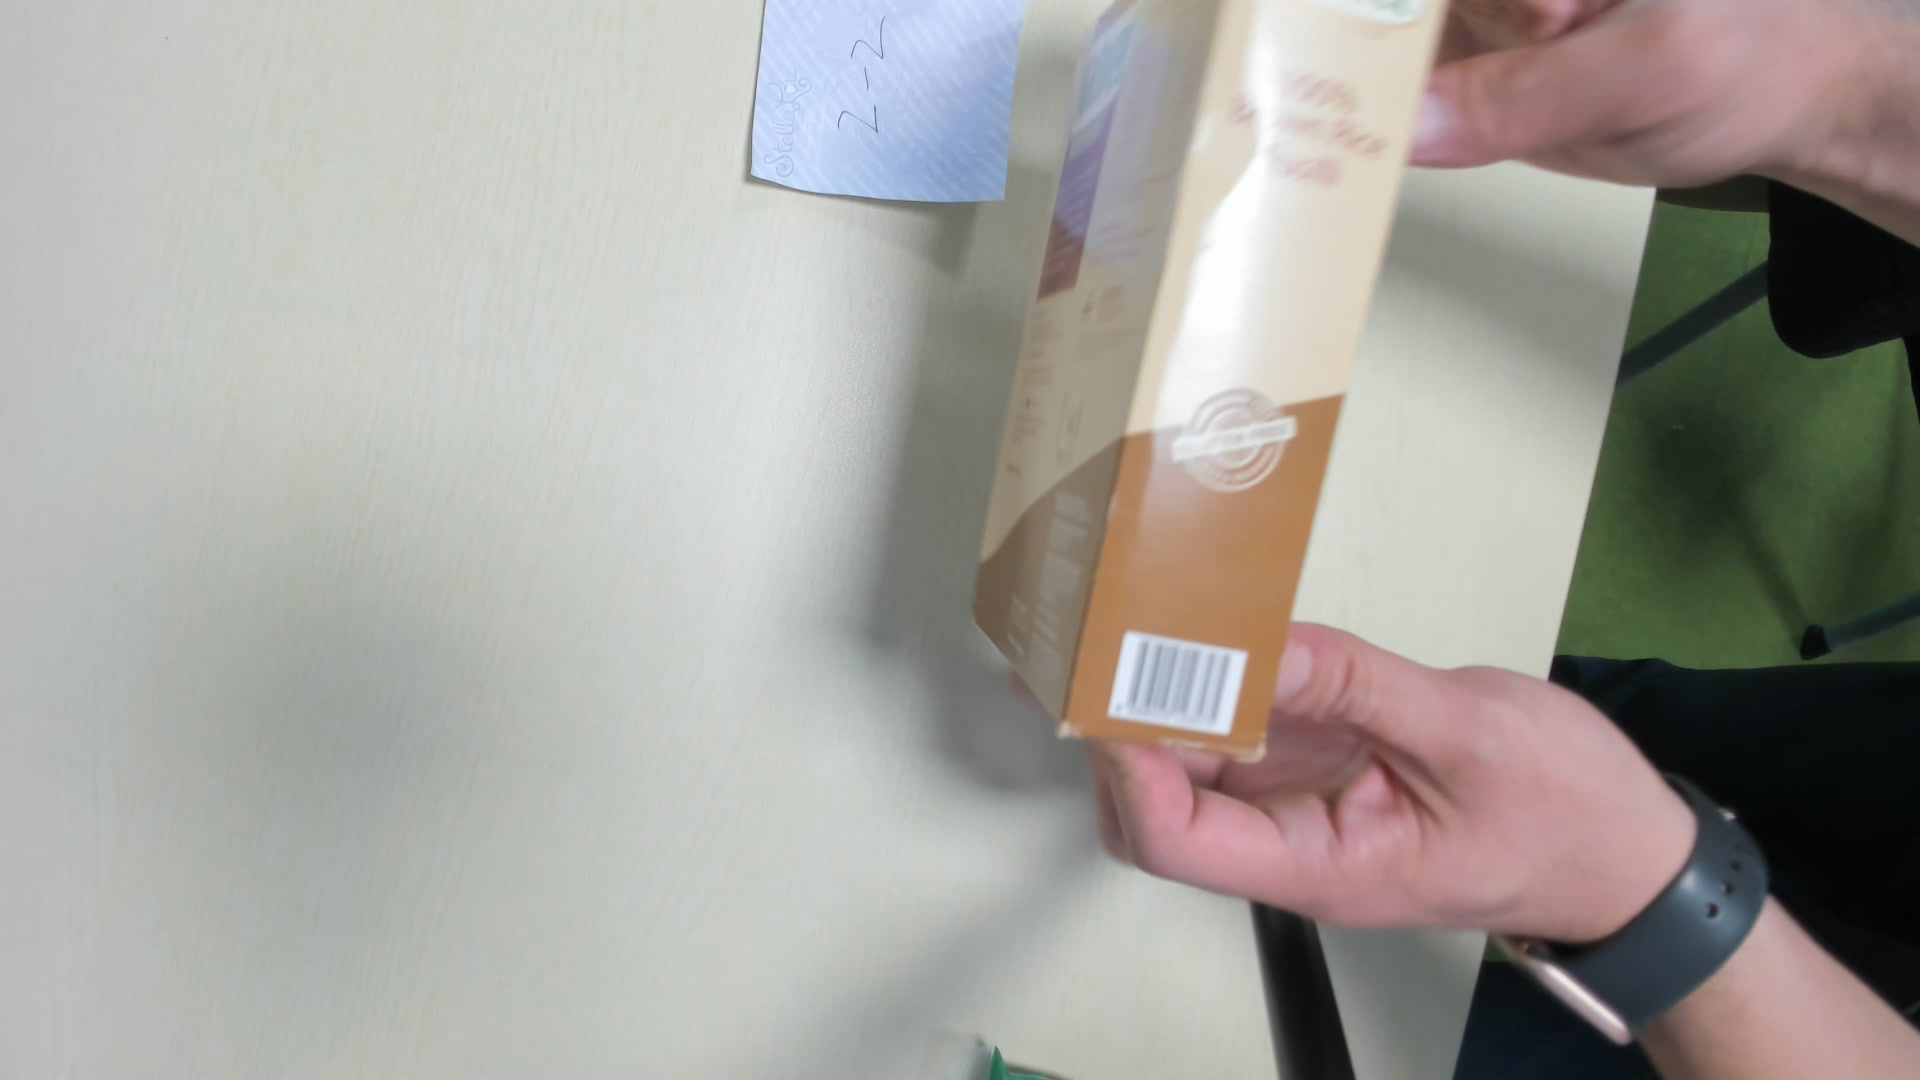Pasta_200-299g_Halal_Healthy: (977, 5, 1439, 782)
